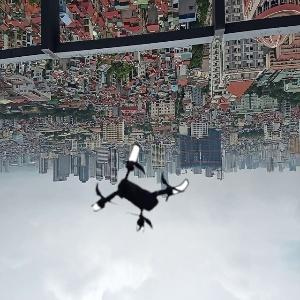drone: (90, 136, 192, 238)
